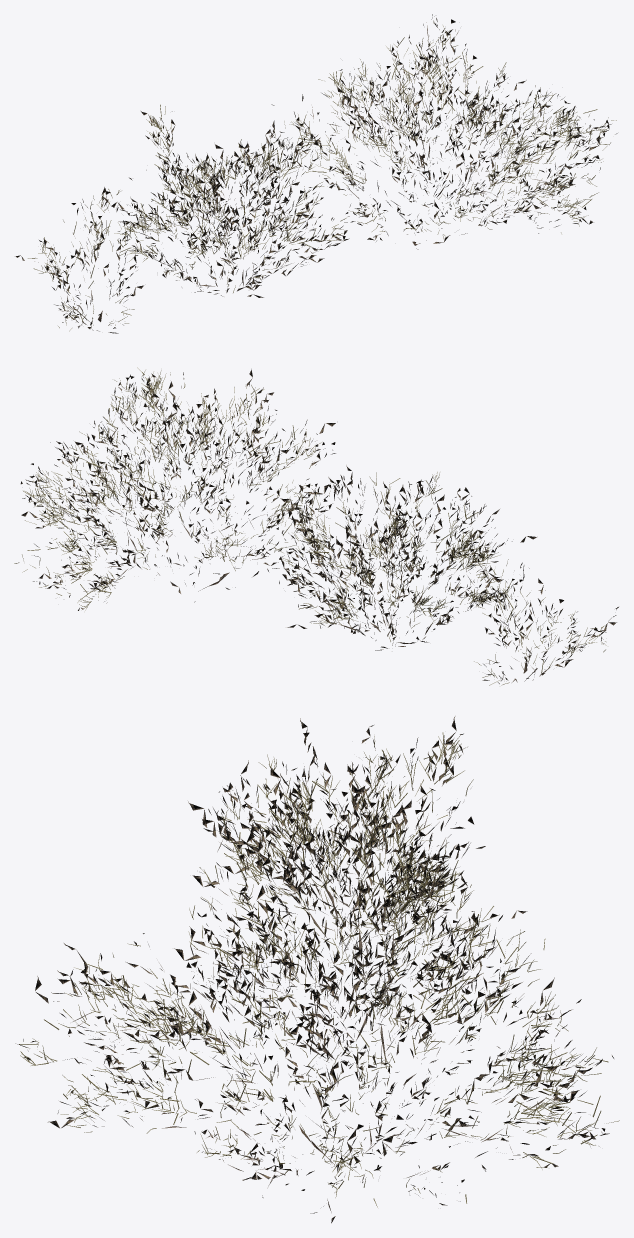
File: searsia_burchellii.glb
3 renders of one model, top to bottom at view 1: azimuth 30°, elevation 25°; view 2: azimuth 150°, elevation 25°; view 3: azimuth 270°, elevation 25°, orthographic. The views are drawn at different scales.
Parts seen in each view (by area): view 1: lod0; view 2: lod0; view 3: lod0.
Boxes of the visible parts, bbox=[...] form: lod0: bbox=[15, 14, 617, 333]; lod0: bbox=[14, 367, 618, 685]; lod0: bbox=[15, 716, 619, 1223].
Size of what is drawn, in the model's own units: 8.33 by 3.16 by 5.02.
Materials: 2 (2 with a texture image).
